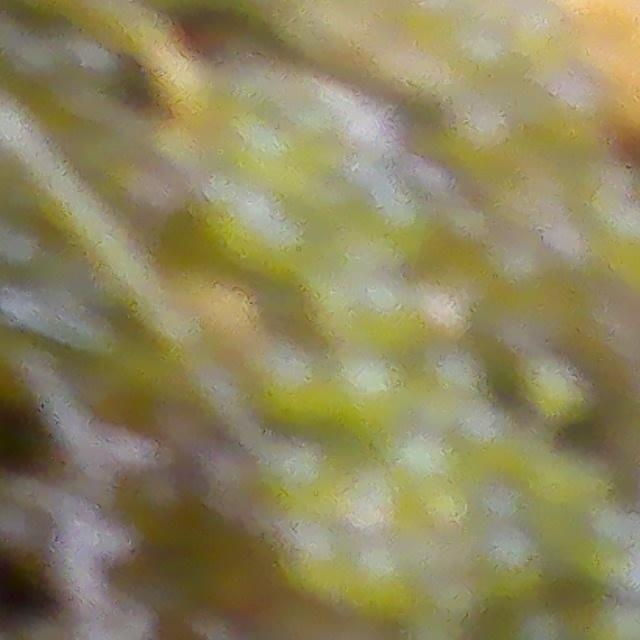SeaGrape: (267, 429, 338, 502), (355, 552, 425, 625), (288, 521, 358, 593), (485, 529, 543, 593)
